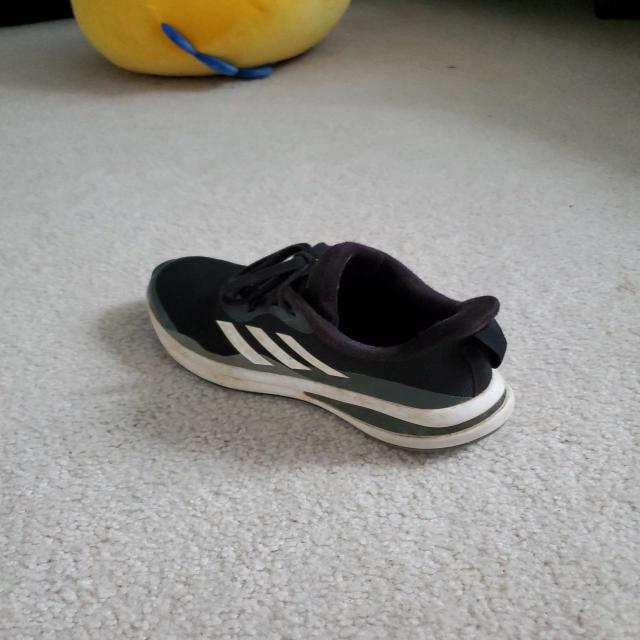shoe: (144, 240, 518, 455)
